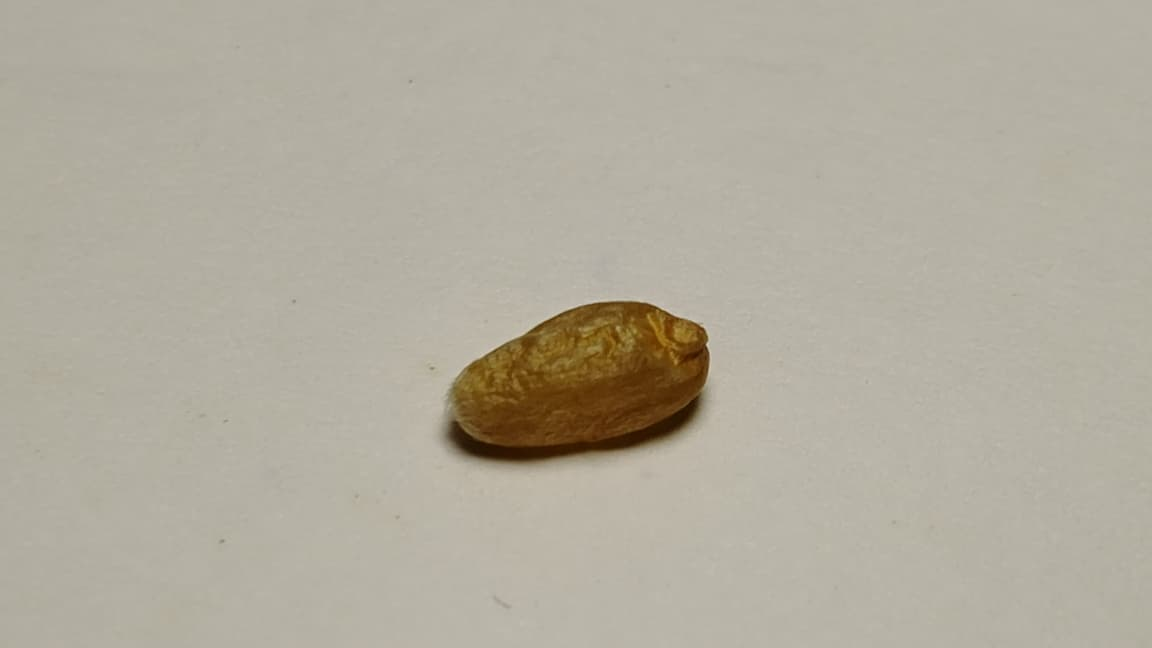healthy: (445, 299, 710, 447)
